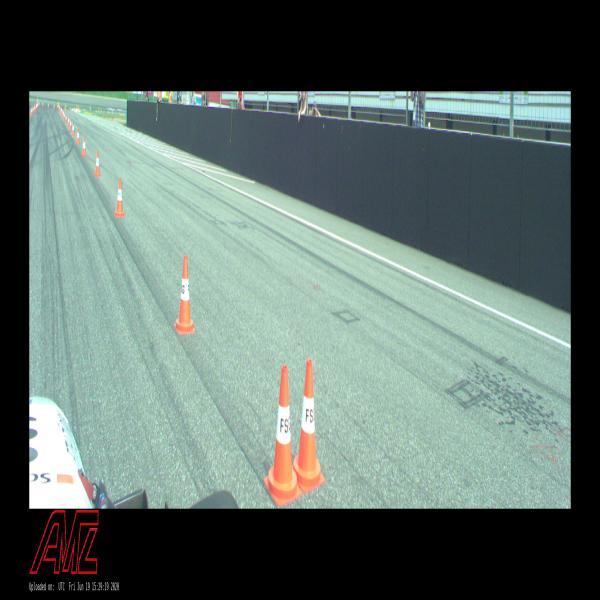orange_cone: (264, 365, 302, 507), (294, 360, 326, 494), (174, 256, 196, 334), (115, 178, 124, 217), (94, 151, 101, 176), (82, 136, 87, 157), (76, 128, 80, 144), (71, 122, 75, 134), (67, 116, 70, 126), (70, 118, 72, 130), (65, 112, 67, 122), (30, 106, 32, 115), (32, 105, 34, 113), (42, 100, 44, 106), (53, 103, 55, 109), (38, 101, 40, 106), (48, 102, 49, 108)
